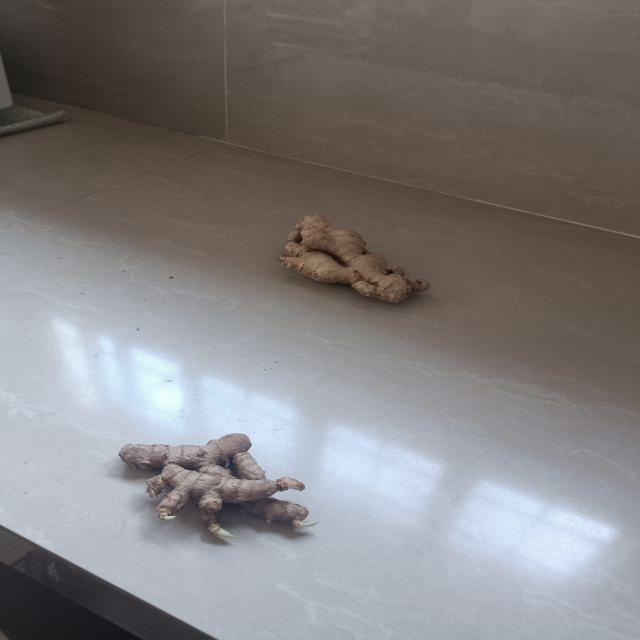ginger: (116, 434, 316, 538), (273, 209, 432, 309)
